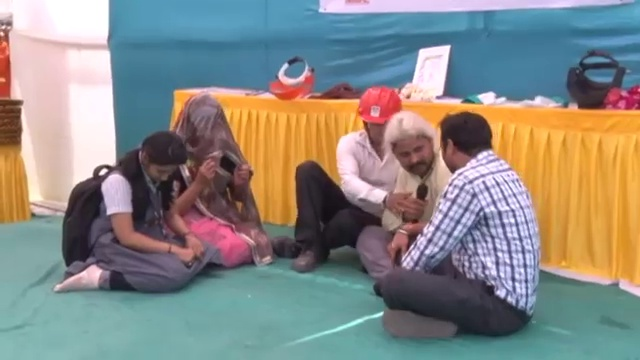helmet: (356, 89, 404, 129)
helmet_off: (435, 111, 498, 178), (176, 97, 231, 165), (385, 115, 437, 178), (132, 133, 193, 186)
helmet_on: (355, 87, 404, 147)
person: (378, 113, 542, 339), (54, 126, 209, 296), (273, 88, 406, 275), (161, 99, 267, 270), (356, 113, 451, 276)
